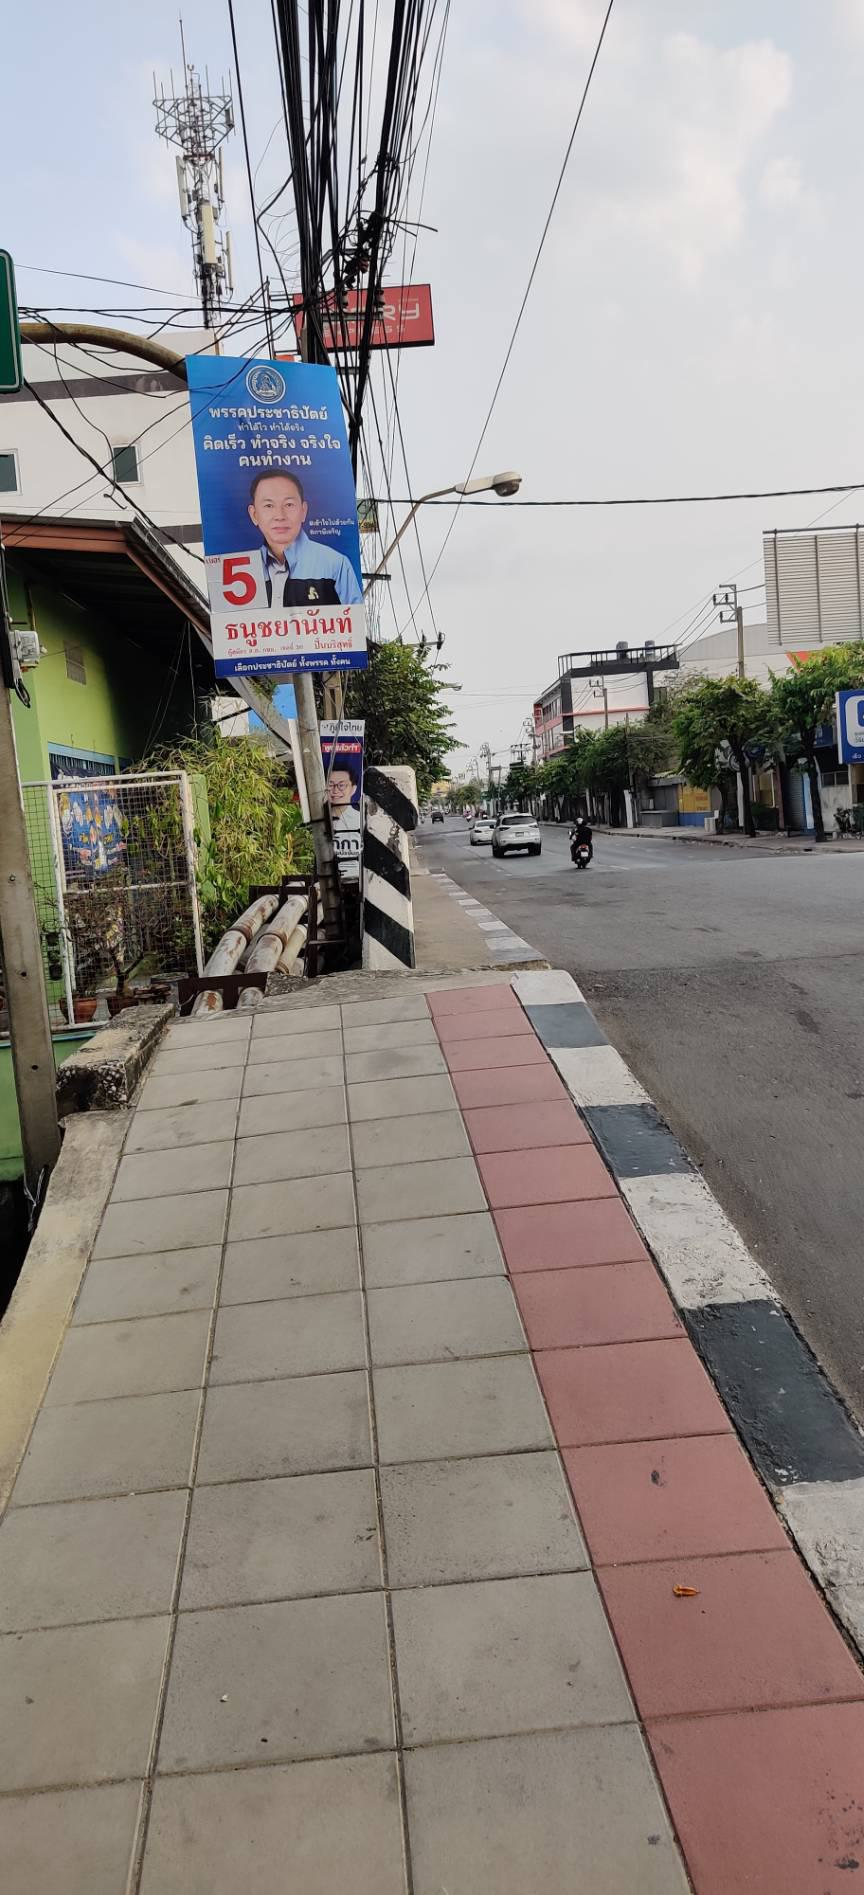Banner: (180, 357, 370, 651)
